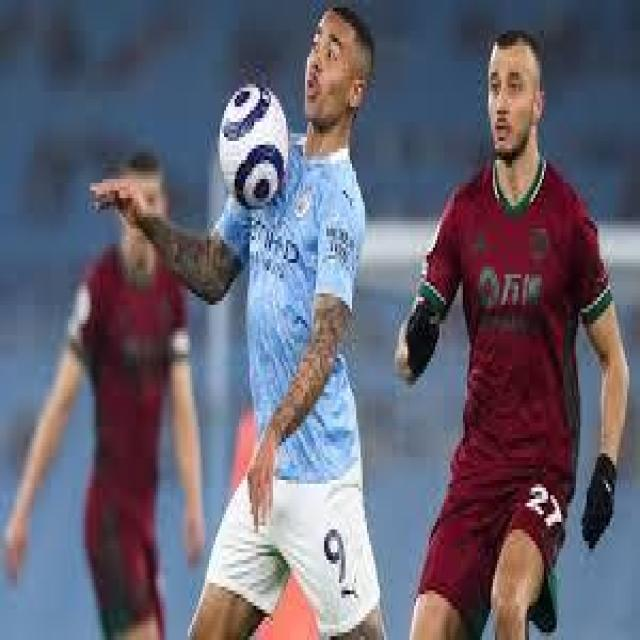Soccer Ball: (220, 80, 290, 210)
